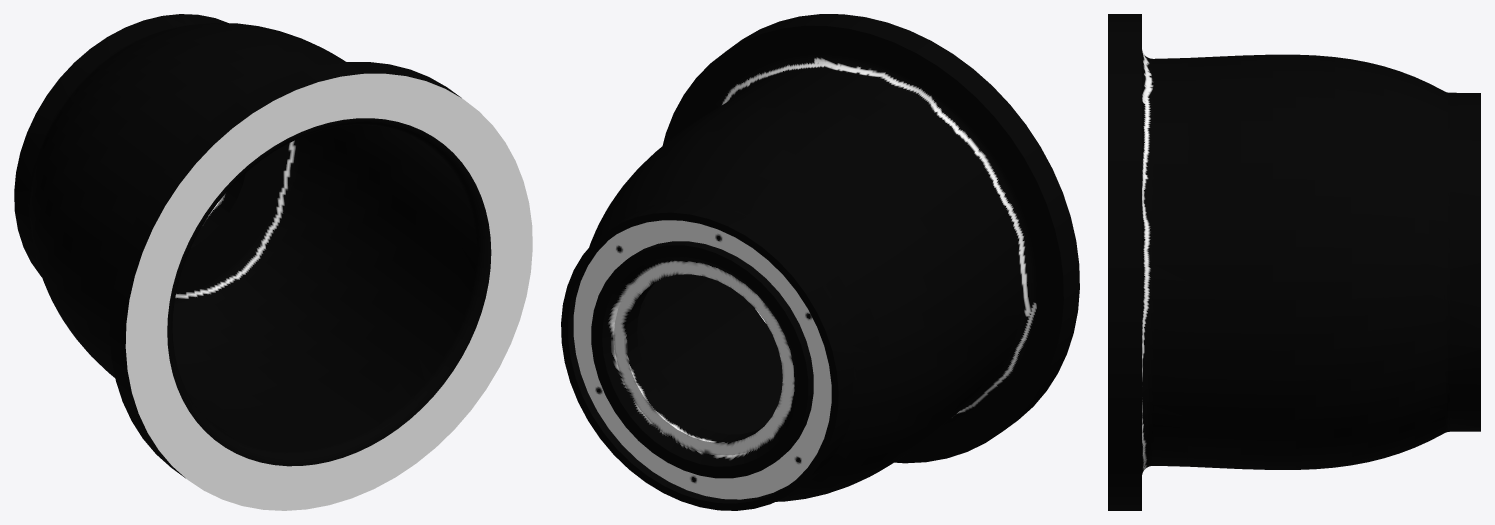
File: barel_paint.obj
3 renders of one model, left to right at view 1: azimuth 30°, elevation 25°; view 2: azimuth 150°, elevation 25°; view 3: azimuth 270°, elevation 25°, orthographic. The views are drawn at different scales.
Parts seen in each view (by area): view 1: kaivalya_modified_version._Material.001; view 2: kaivalya_modified_version._Material.001; view 3: kaivalya_modified_version._Material.001.
Boxes of the visible parts, x1,y1,x2,y2 form: kaivalya_modified_version._Material.001: [14, 14, 532, 510]; kaivalya_modified_version._Material.001: [561, 14, 1079, 510]; kaivalya_modified_version._Material.001: [1108, 14, 1480, 510].
Size of the model in its own units: 43.98 by 43.97 by 33.
1 material, 1 textured.
